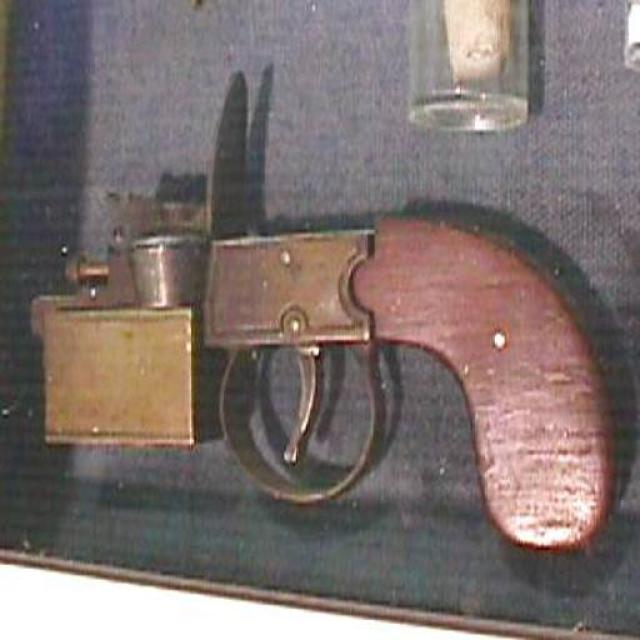pistol: (20, 200, 607, 552)
